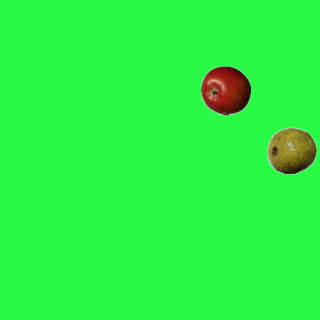Apple Braeburn: (200, 65, 250, 115)
Guava: (266, 125, 316, 175)
